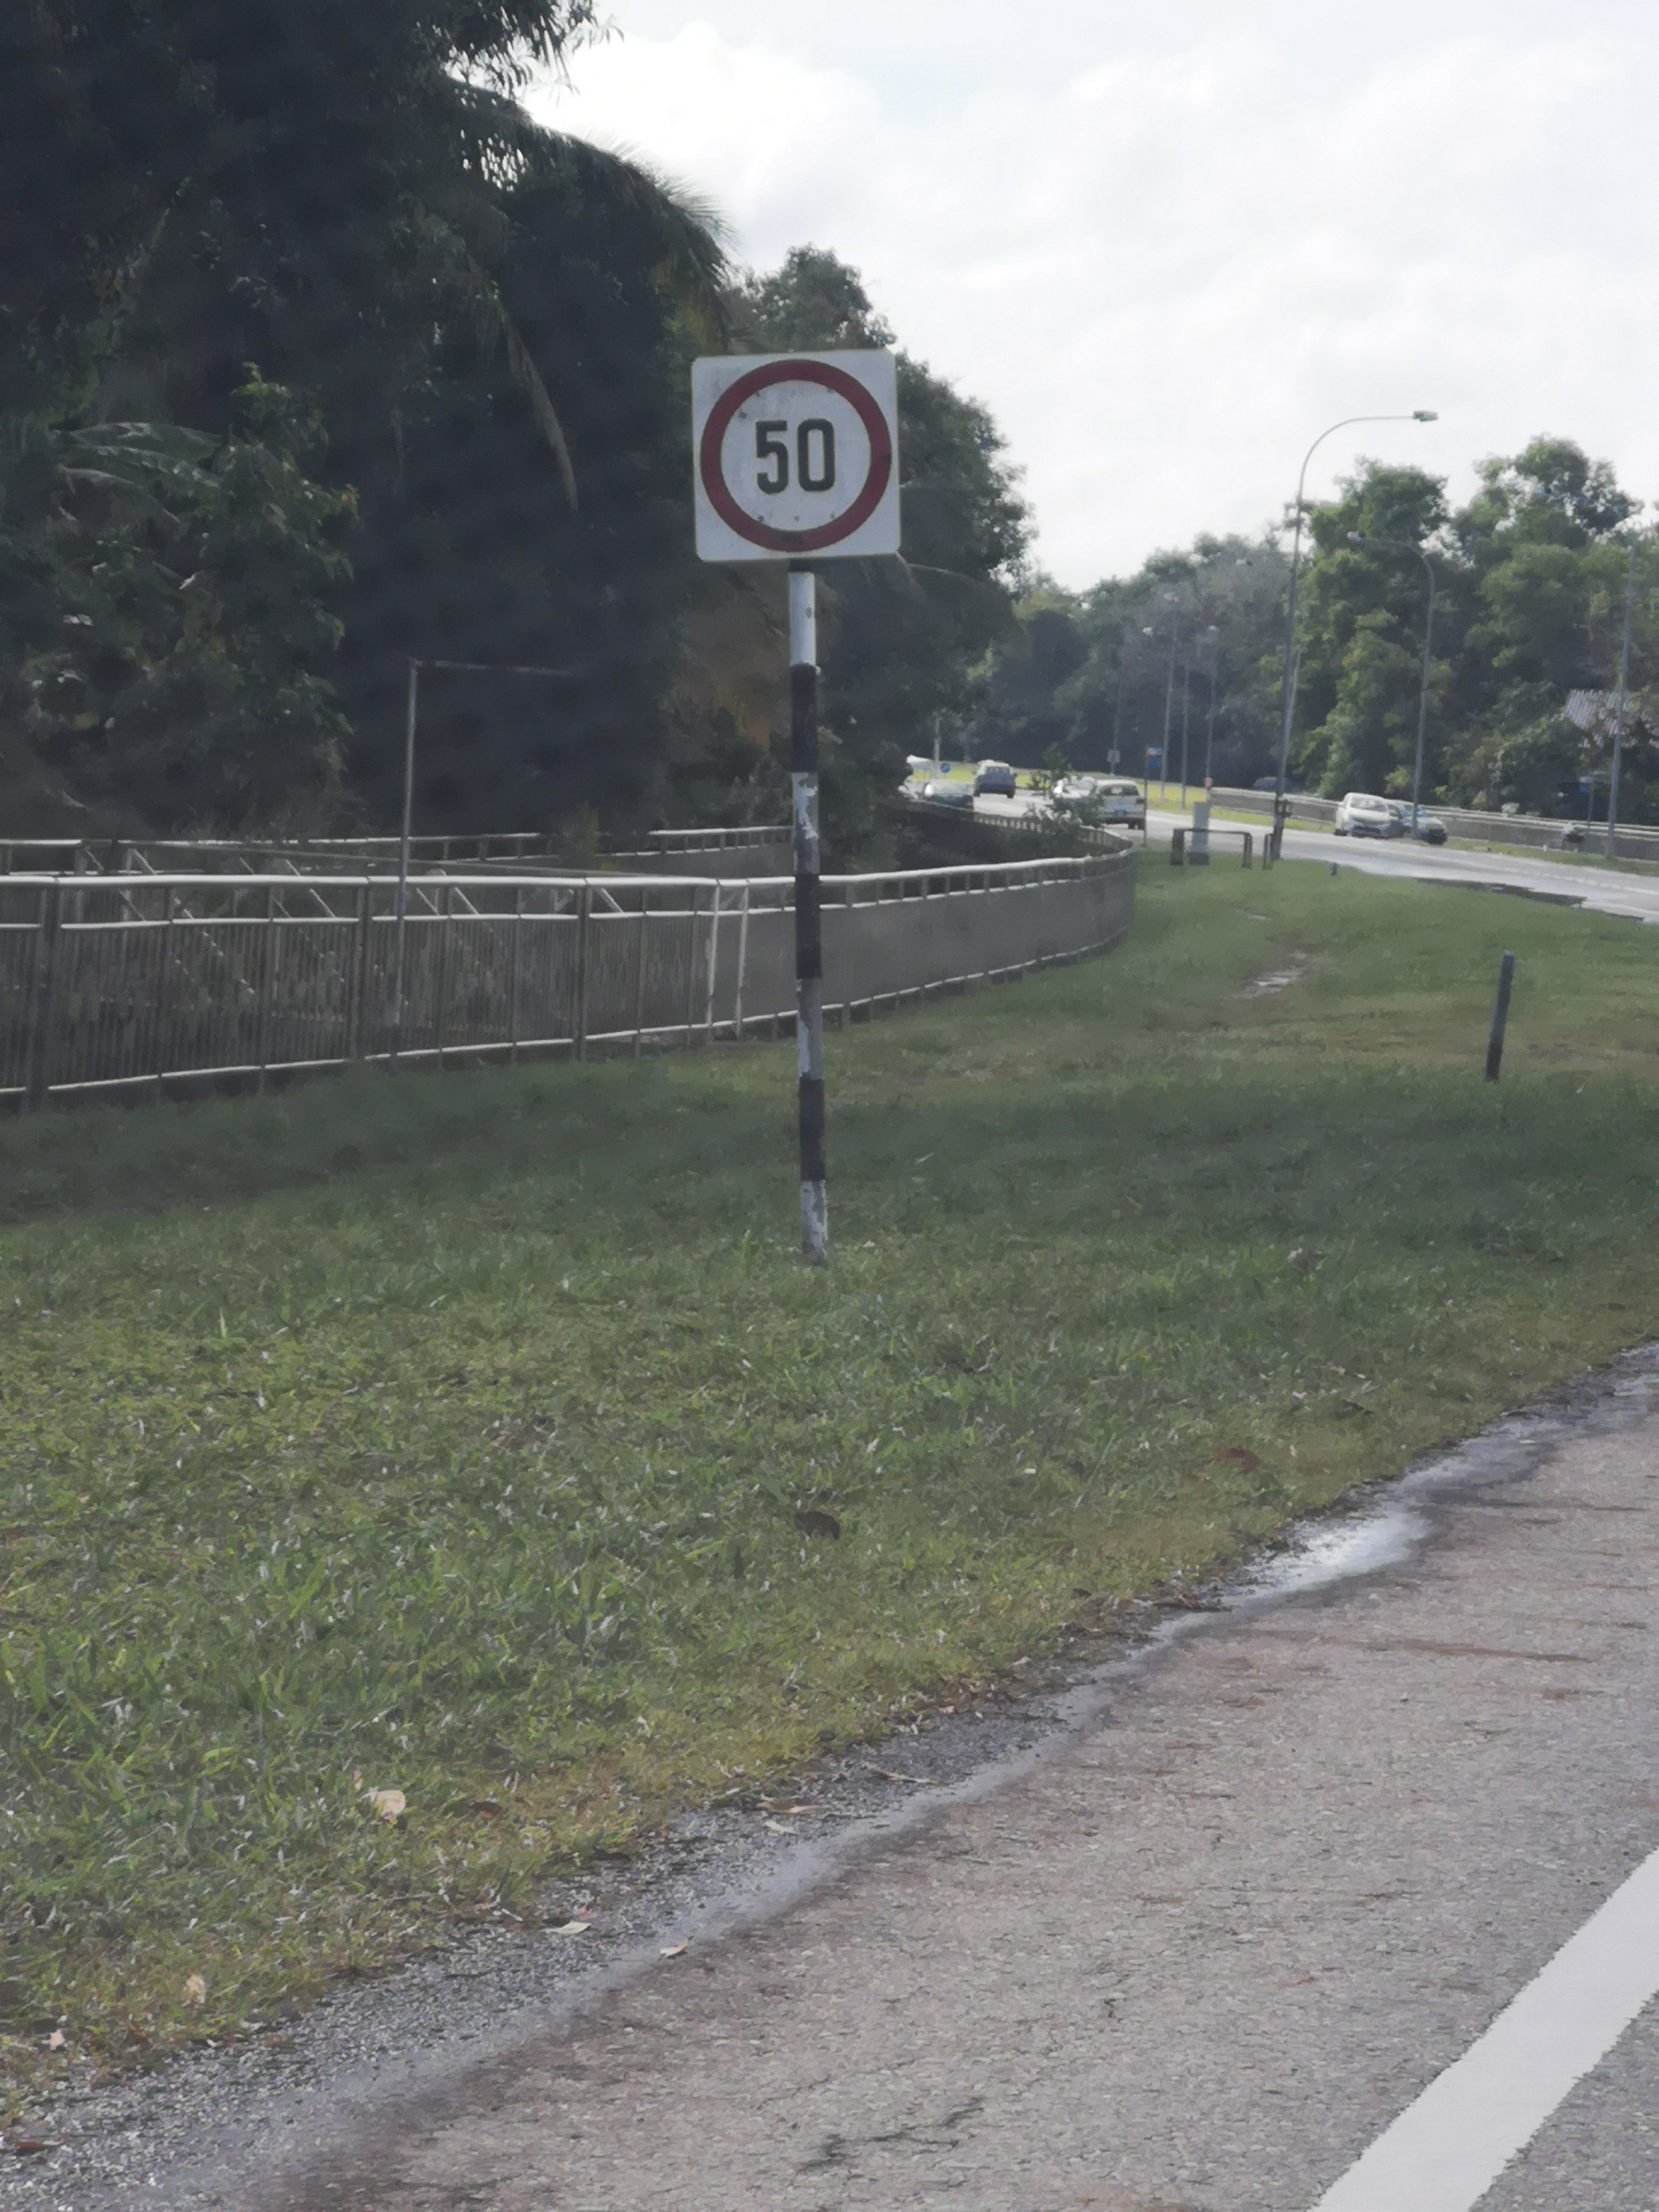speed limit 50: (683, 350, 915, 580)
